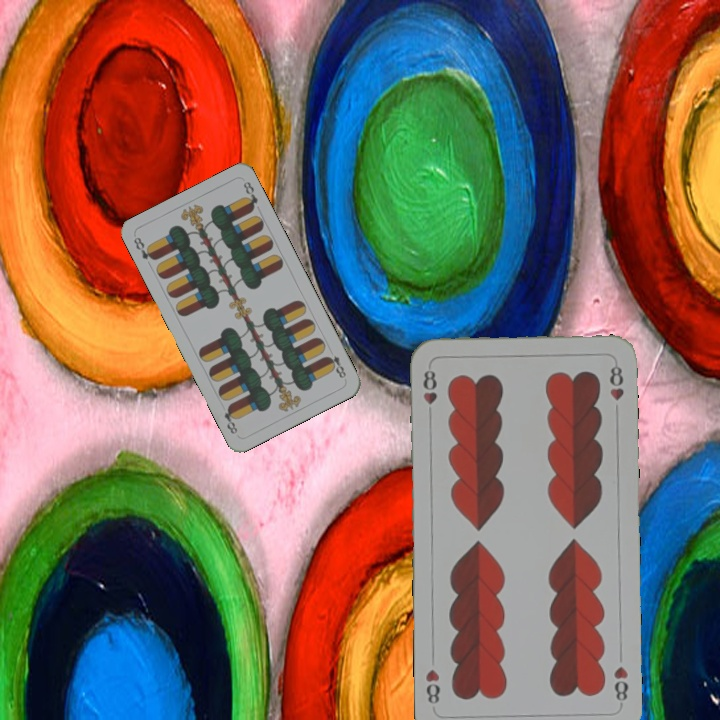E8: (130, 233, 158, 263), (322, 351, 349, 381)
H8: (609, 662, 631, 708), (418, 362, 440, 407)
